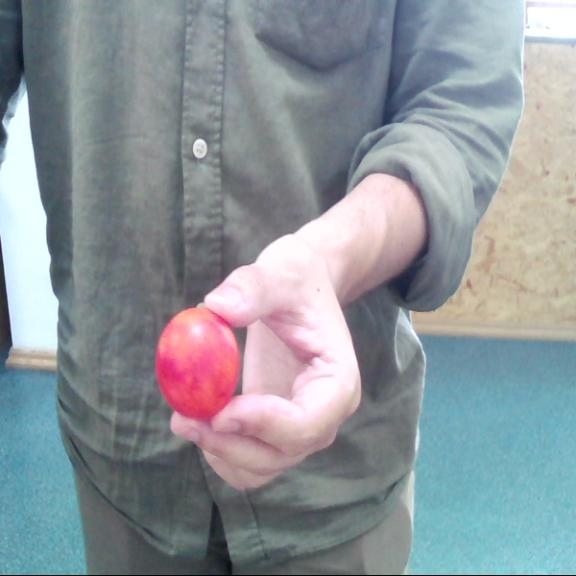ball: (158, 306, 242, 419)
